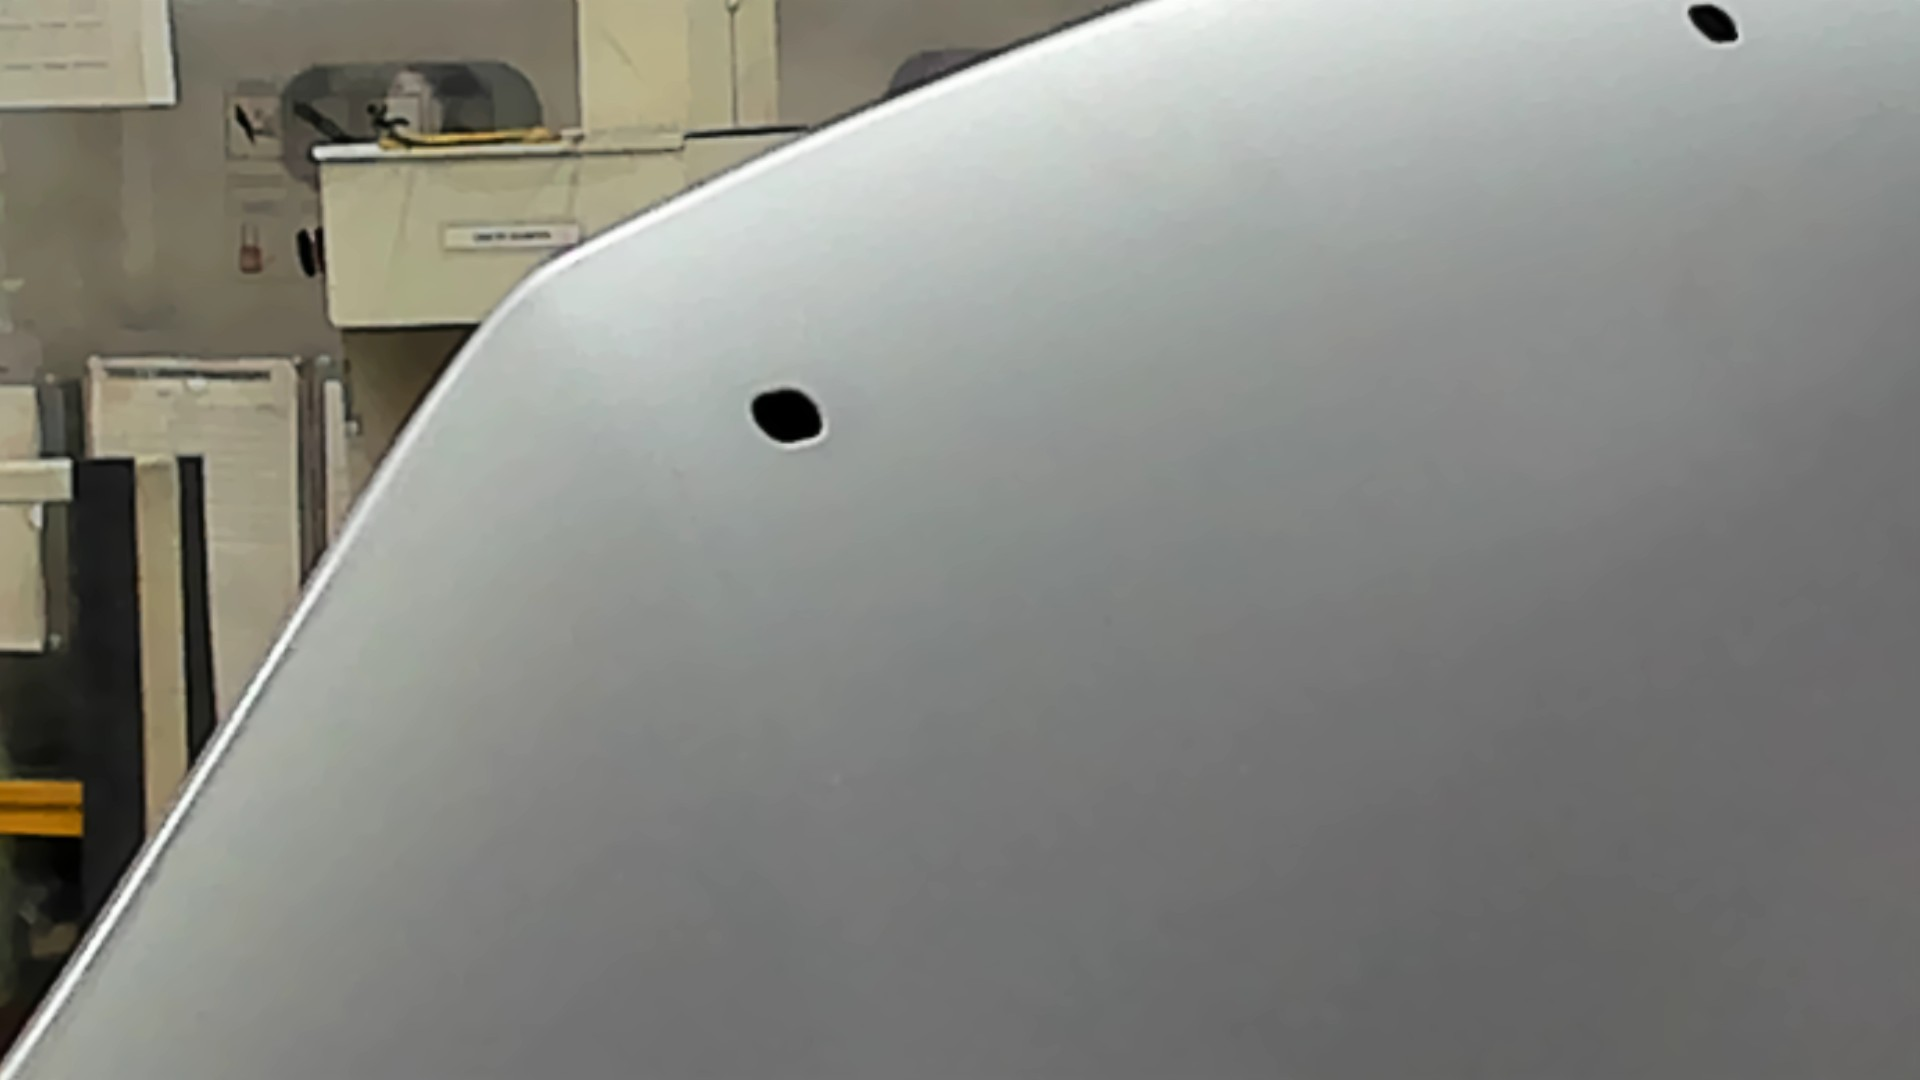Agujero: (746, 382, 828, 450), (1683, 1, 1742, 50)
